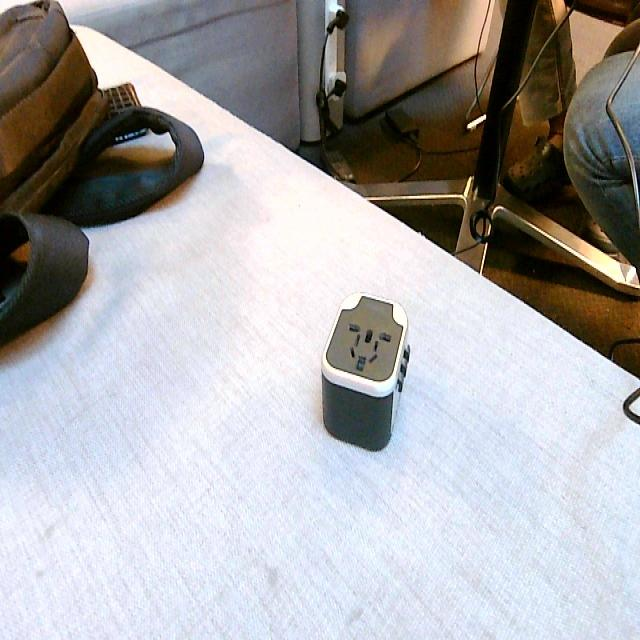adapter: (319, 290, 411, 450)
